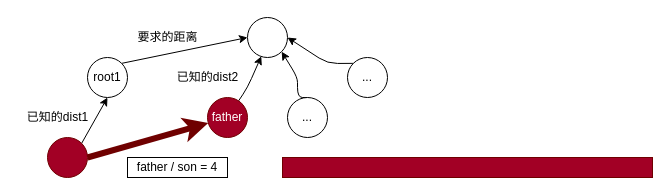
Some shapes in this 670 by 195 pixel diagram are drawn without their labels. Here are the shapes that lost their labels. From the top down, the centre of each, then its label:
At point (267, 37): "root2".
At point (67, 157): "son".
At point (467, 167): "要求的距离 + 已知的dist1 = father / son + 已知的dist2".
